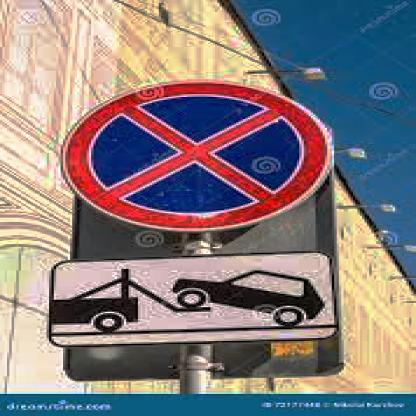No stopping: (65, 76, 341, 230)
